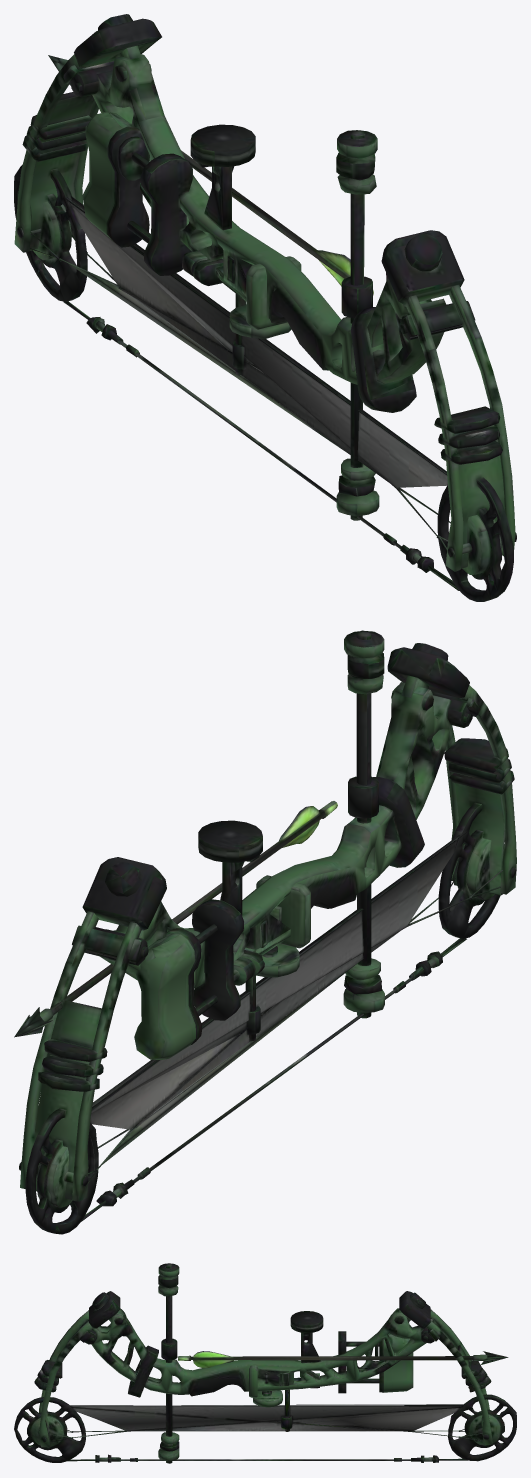
The model's file is compound_bow.glb.
3 renders of one model, top to bottom at view 1: azimuth 30°, elevation 25°; view 2: azimuth 150°, elevation 25°; view 3: azimuth 270°, elevation 25°, orthographic. The views are drawn at different scales.
Parts seen in each view (by area): view 1: w_compound_bow; view 2: w_compound_bow; view 3: w_compound_bow.
Boxes of the visible parts, box(x1,y1,x2,y2) form: w_compound_bow: box(14, 14, 516, 601); w_compound_bow: box(14, 630, 516, 1234); w_compound_bow: box(14, 1263, 516, 1463).
Bounding box in the file's own units: 0.0712 × 0.3279 × 0.75.
Materials: 1 (1 with a texture image).
